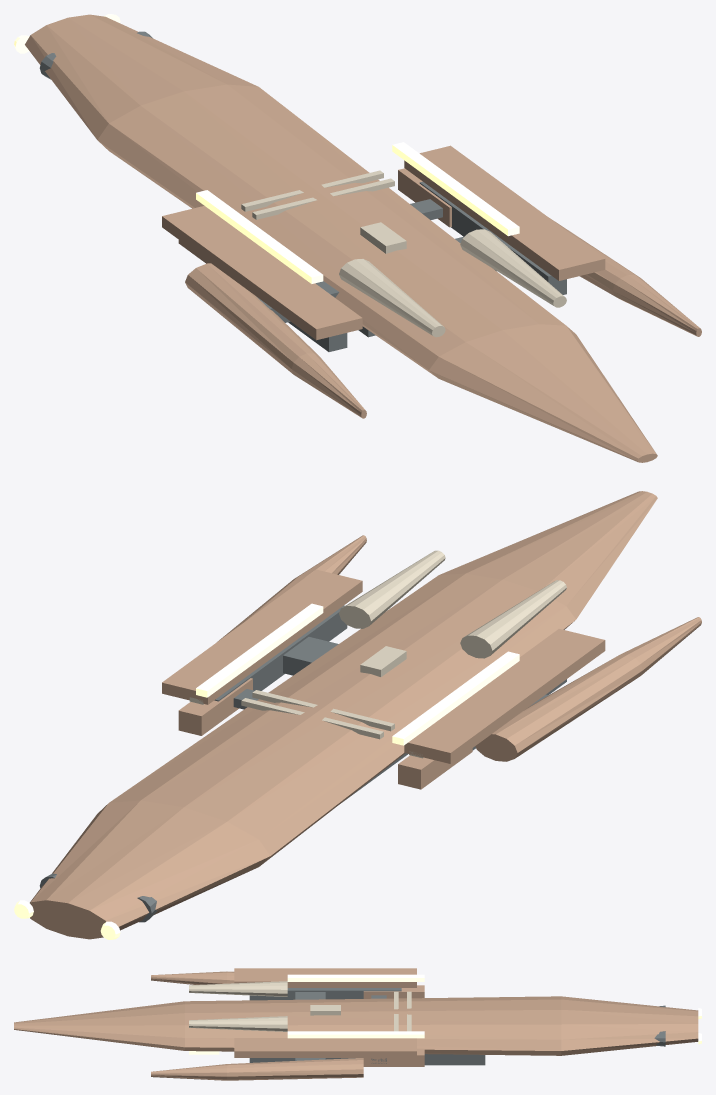
3 views of the same model, one above another, from view 1: azimuth 30°, elevation 25°; view 2: azimuth 150°, elevation 25°; view 3: azimuth 270°, elevation 25° (orthographic). The views are drawn at different scales.
Size of the model in its own units: 6.99 by 1.78 by 20.09.
